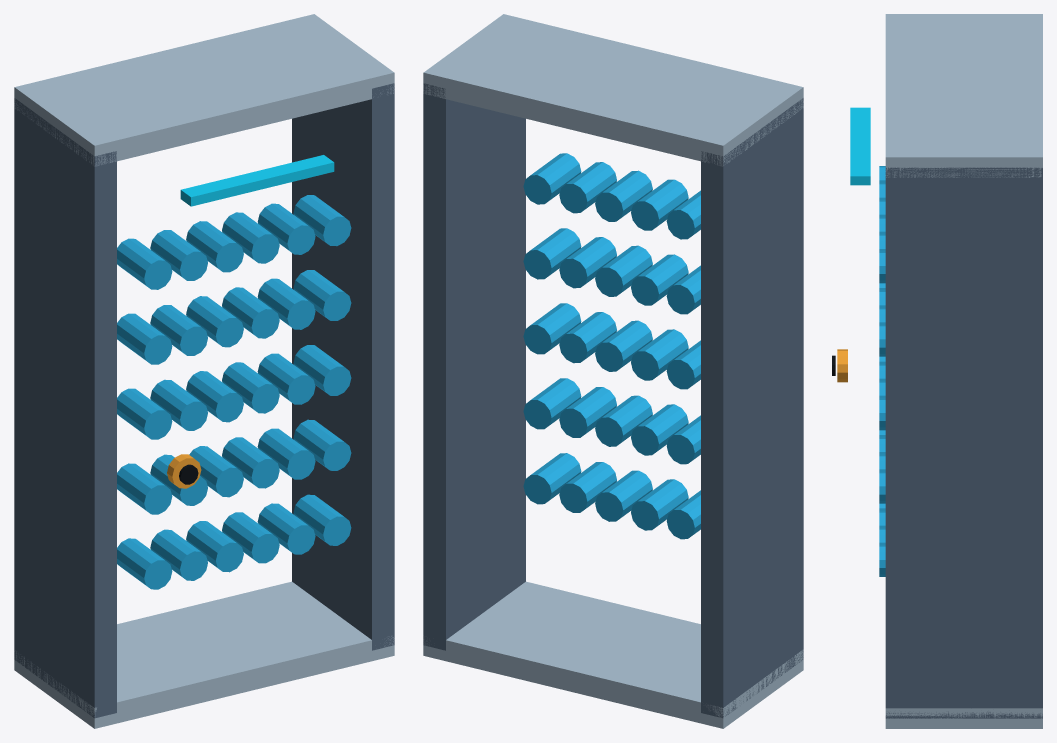
Rendered from 17_L88_AdsorbentCartridgeArrayB.fbx.
3 renders of one model, left to right at view 1: azimuth 30°, elevation 25°; view 2: azimuth 150°, elevation 25°; view 3: azimuth 270°, elevation 25°, orthographic. The views are drawn at different scales.
Parts seen in each view (by area): view 1: L87_AdsorbentCartridgeArrayB_Part_0000, L87_AdsorbentCartridgeArrayB_Part_0001, L87_AdsorbentCartridgeArrayB_Part_0002, L87_AdsorbentCartridgeArrayB_Part_0003, L87_AdsorbentCartridgeArrayB_Part_0004, L87_AdsorbentCartridgeArrayB_Part_0005; view 2: L87_AdsorbentCartridgeArrayB_Part_0000, L87_AdsorbentCartridgeArrayB_Part_0001, L87_AdsorbentCartridgeArrayB_Part_0002, L87_AdsorbentCartridgeArrayB_Part_0003; view 3: L87_AdsorbentCartridgeArrayB_Part_0000, L87_AdsorbentCartridgeArrayB_Part_0001, L87_AdsorbentCartridgeArrayB_Part_0004, L87_AdsorbentCartridgeArrayB_Part_0002, L87_AdsorbentCartridgeArrayB_Part_0003, L87_AdsorbentCartridgeArrayB_Part_0005.
Boxes of the visible parts, x1,y1,x2,y2 form: L87_AdsorbentCartridgeArrayB_Part_0000: (14,83,394,718); L87_AdsorbentCartridgeArrayB_Part_0001: (14,14,394,728); L87_AdsorbentCartridgeArrayB_Part_0002: (117,305,351,589); L87_AdsorbentCartridgeArrayB_Part_0003: (117,195,351,347); L87_AdsorbentCartridgeArrayB_Part_0004: (180,155,334,206); L87_AdsorbentCartridgeArrayB_Part_0005: (167,454,201,488); L87_AdsorbentCartridgeArrayB_Part_0000: (423,83,803,718); L87_AdsorbentCartridgeArrayB_Part_0001: (423,14,803,728); L87_AdsorbentCartridgeArrayB_Part_0002: (523,265,700,539); L87_AdsorbentCartridgeArrayB_Part_0003: (523,153,700,305); L87_AdsorbentCartridgeArrayB_Part_0000: (885,167,1042,718); L87_AdsorbentCartridgeArrayB_Part_0001: (885,14,1042,728); L87_AdsorbentCartridgeArrayB_Part_0004: (850,107,870,185); L87_AdsorbentCartridgeArrayB_Part_0002: (879,356,885,576); L87_AdsorbentCartridgeArrayB_Part_0003: (879,166,885,356); L87_AdsorbentCartridgeArrayB_Part_0005: (837,349,847,382).
Bounding box in the file's own units: 134 × 249 × 83.2.
